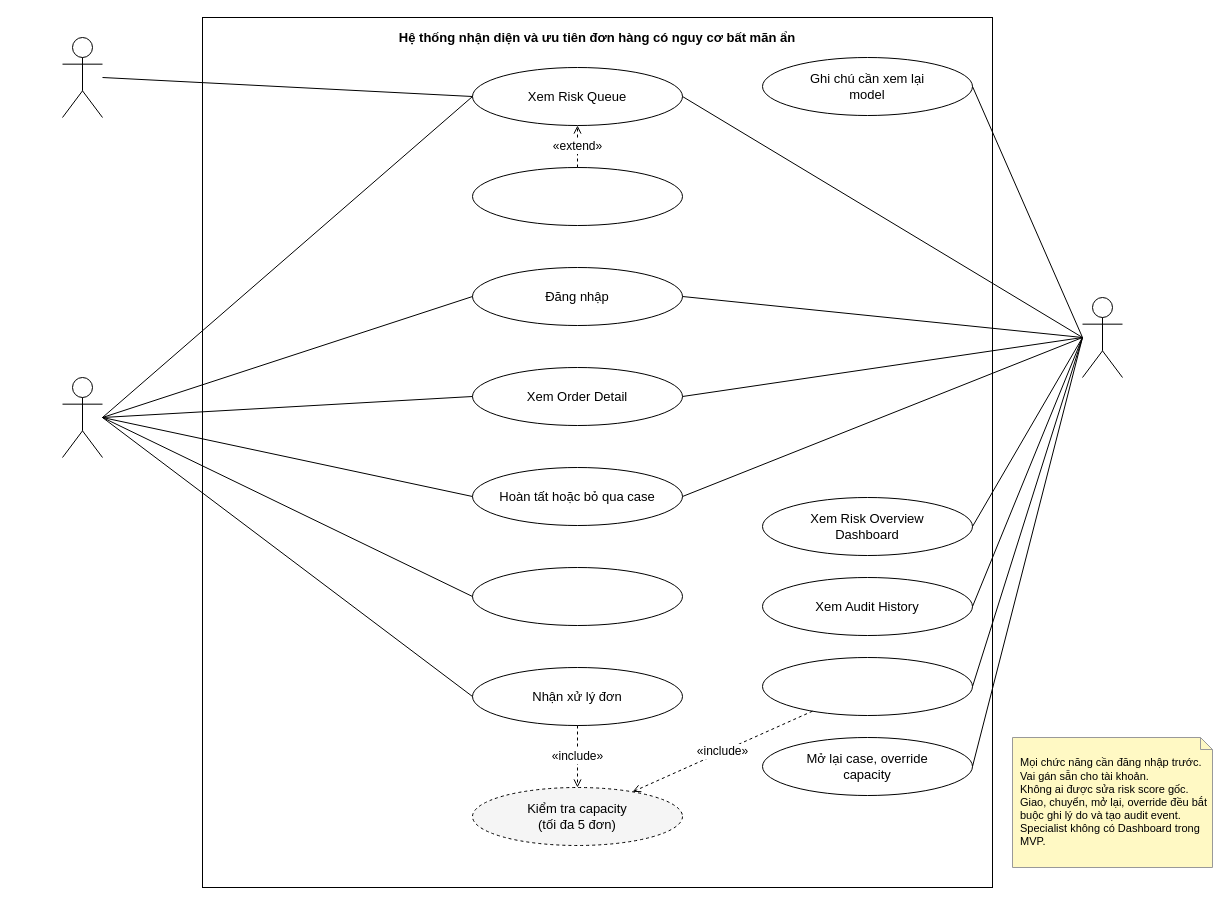
Some shapes in this 1230 by 905 pixel diagram are drawn without their labels. Each missing label, with the box of its shape:
Customer Service Specialist: (62, 376, 102, 458)
Ghi nhận liên lạc, hẹn liên lạc lại: (472, 566, 682, 626)
Giao / chuyển đơn: (762, 656, 972, 716)
Mô hình ML (cung cấp risk score, level, yếu tố liên quan): (62, 36, 102, 118)
Supervisor/ Manager: (1082, 296, 1122, 378)
Tìm kiếm và lọc đơn: (472, 166, 682, 226)
